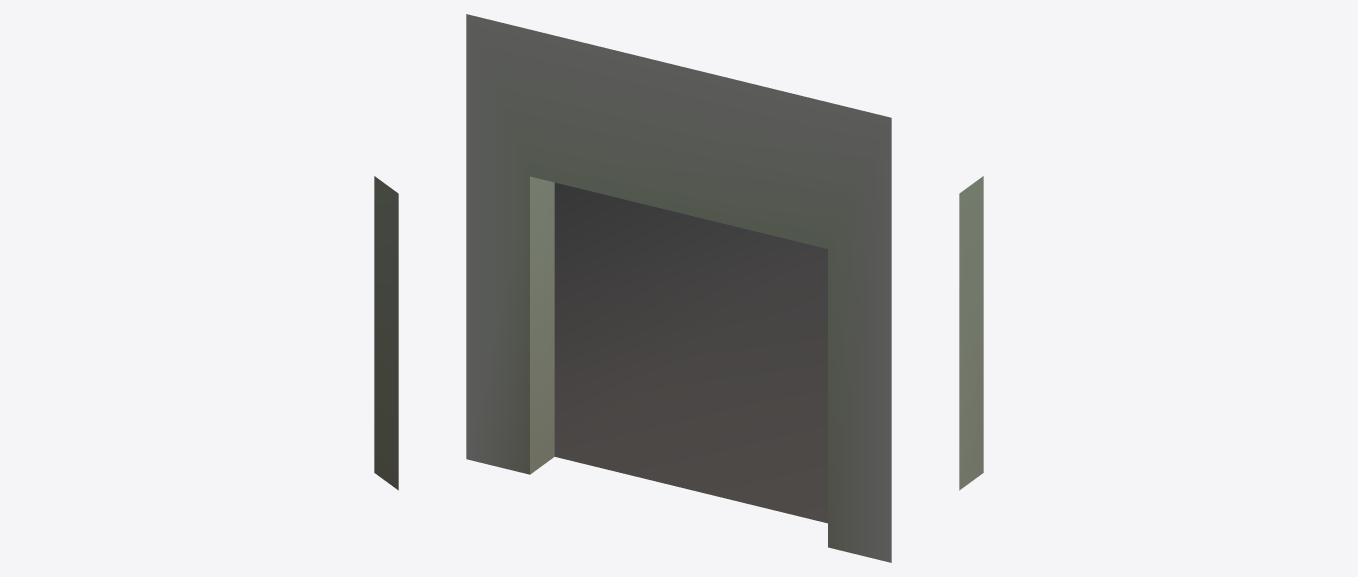
File: wall-b-flat-garage.glb
3 renders of one model, left to right at view 1: azimuth 30°, elevation 25°; view 2: azimuth 150°, elevation 25°; view 3: azimuth 330°, elevation 25°, orthographic.
Parts seen in each view (by area): view 1: wall-b-flat-garage; view 2: wall-b-flat-garage; view 3: wall-b-flat-garage.
Boxes of the visible parts, left/top/right/bottom form: wall-b-flat-garage: left=374, top=176, right=398, bottom=490; wall-b-flat-garage: left=466, top=14, right=891, bottom=562; wall-b-flat-garage: left=959, top=176, right=983, bottom=490.
Size of the model in its own units: 1 by 1 by 0.1.
